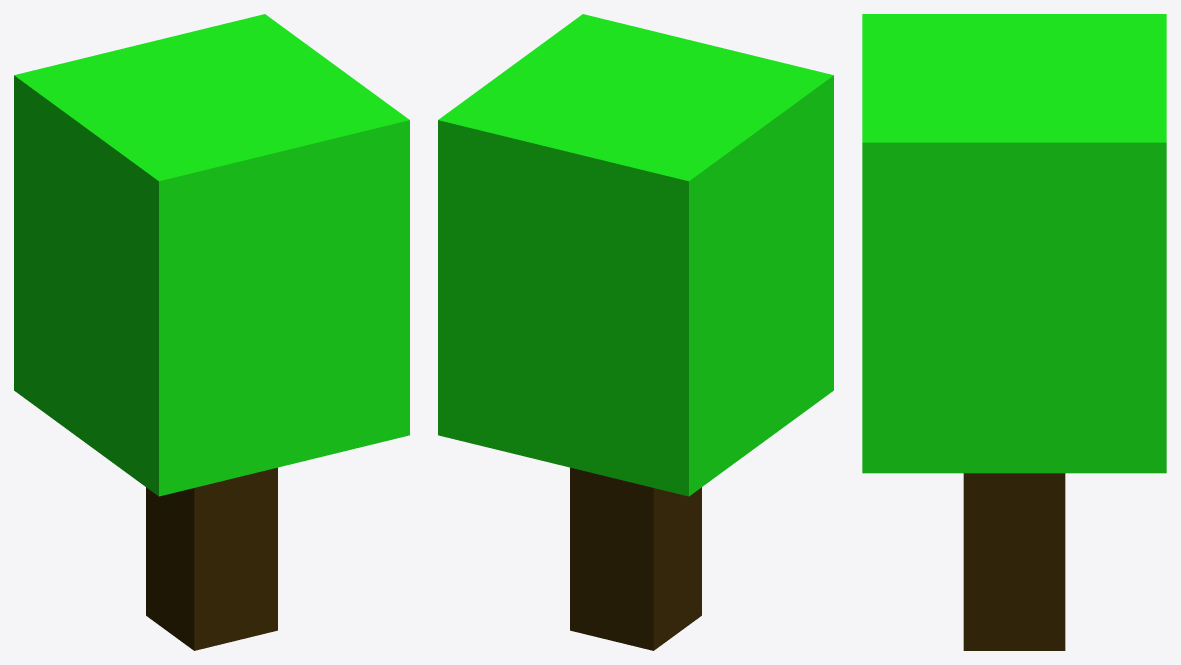
The model's file is Tree_1.fbx.
3 renders of one model, left to right at view 1: azimuth 30°, elevation 25°; view 2: azimuth 150°, elevation 25°; view 3: azimuth 270°, elevation 25°, orthographic. The views are drawn at different scales.
Visible parts, largest first — view 1: Tree_1; view 2: Tree_1; view 3: Tree_1.
Boxes of the visible parts, left/top/right/bottom form: Tree_1: left=14, top=14, right=409, bottom=650; Tree_1: left=438, top=14, right=833, bottom=650; Tree_1: left=862, top=14, right=1166, bottom=650.
Size of the model in its own units: 15 by 30 by 15.
1 material, 1 textured.
